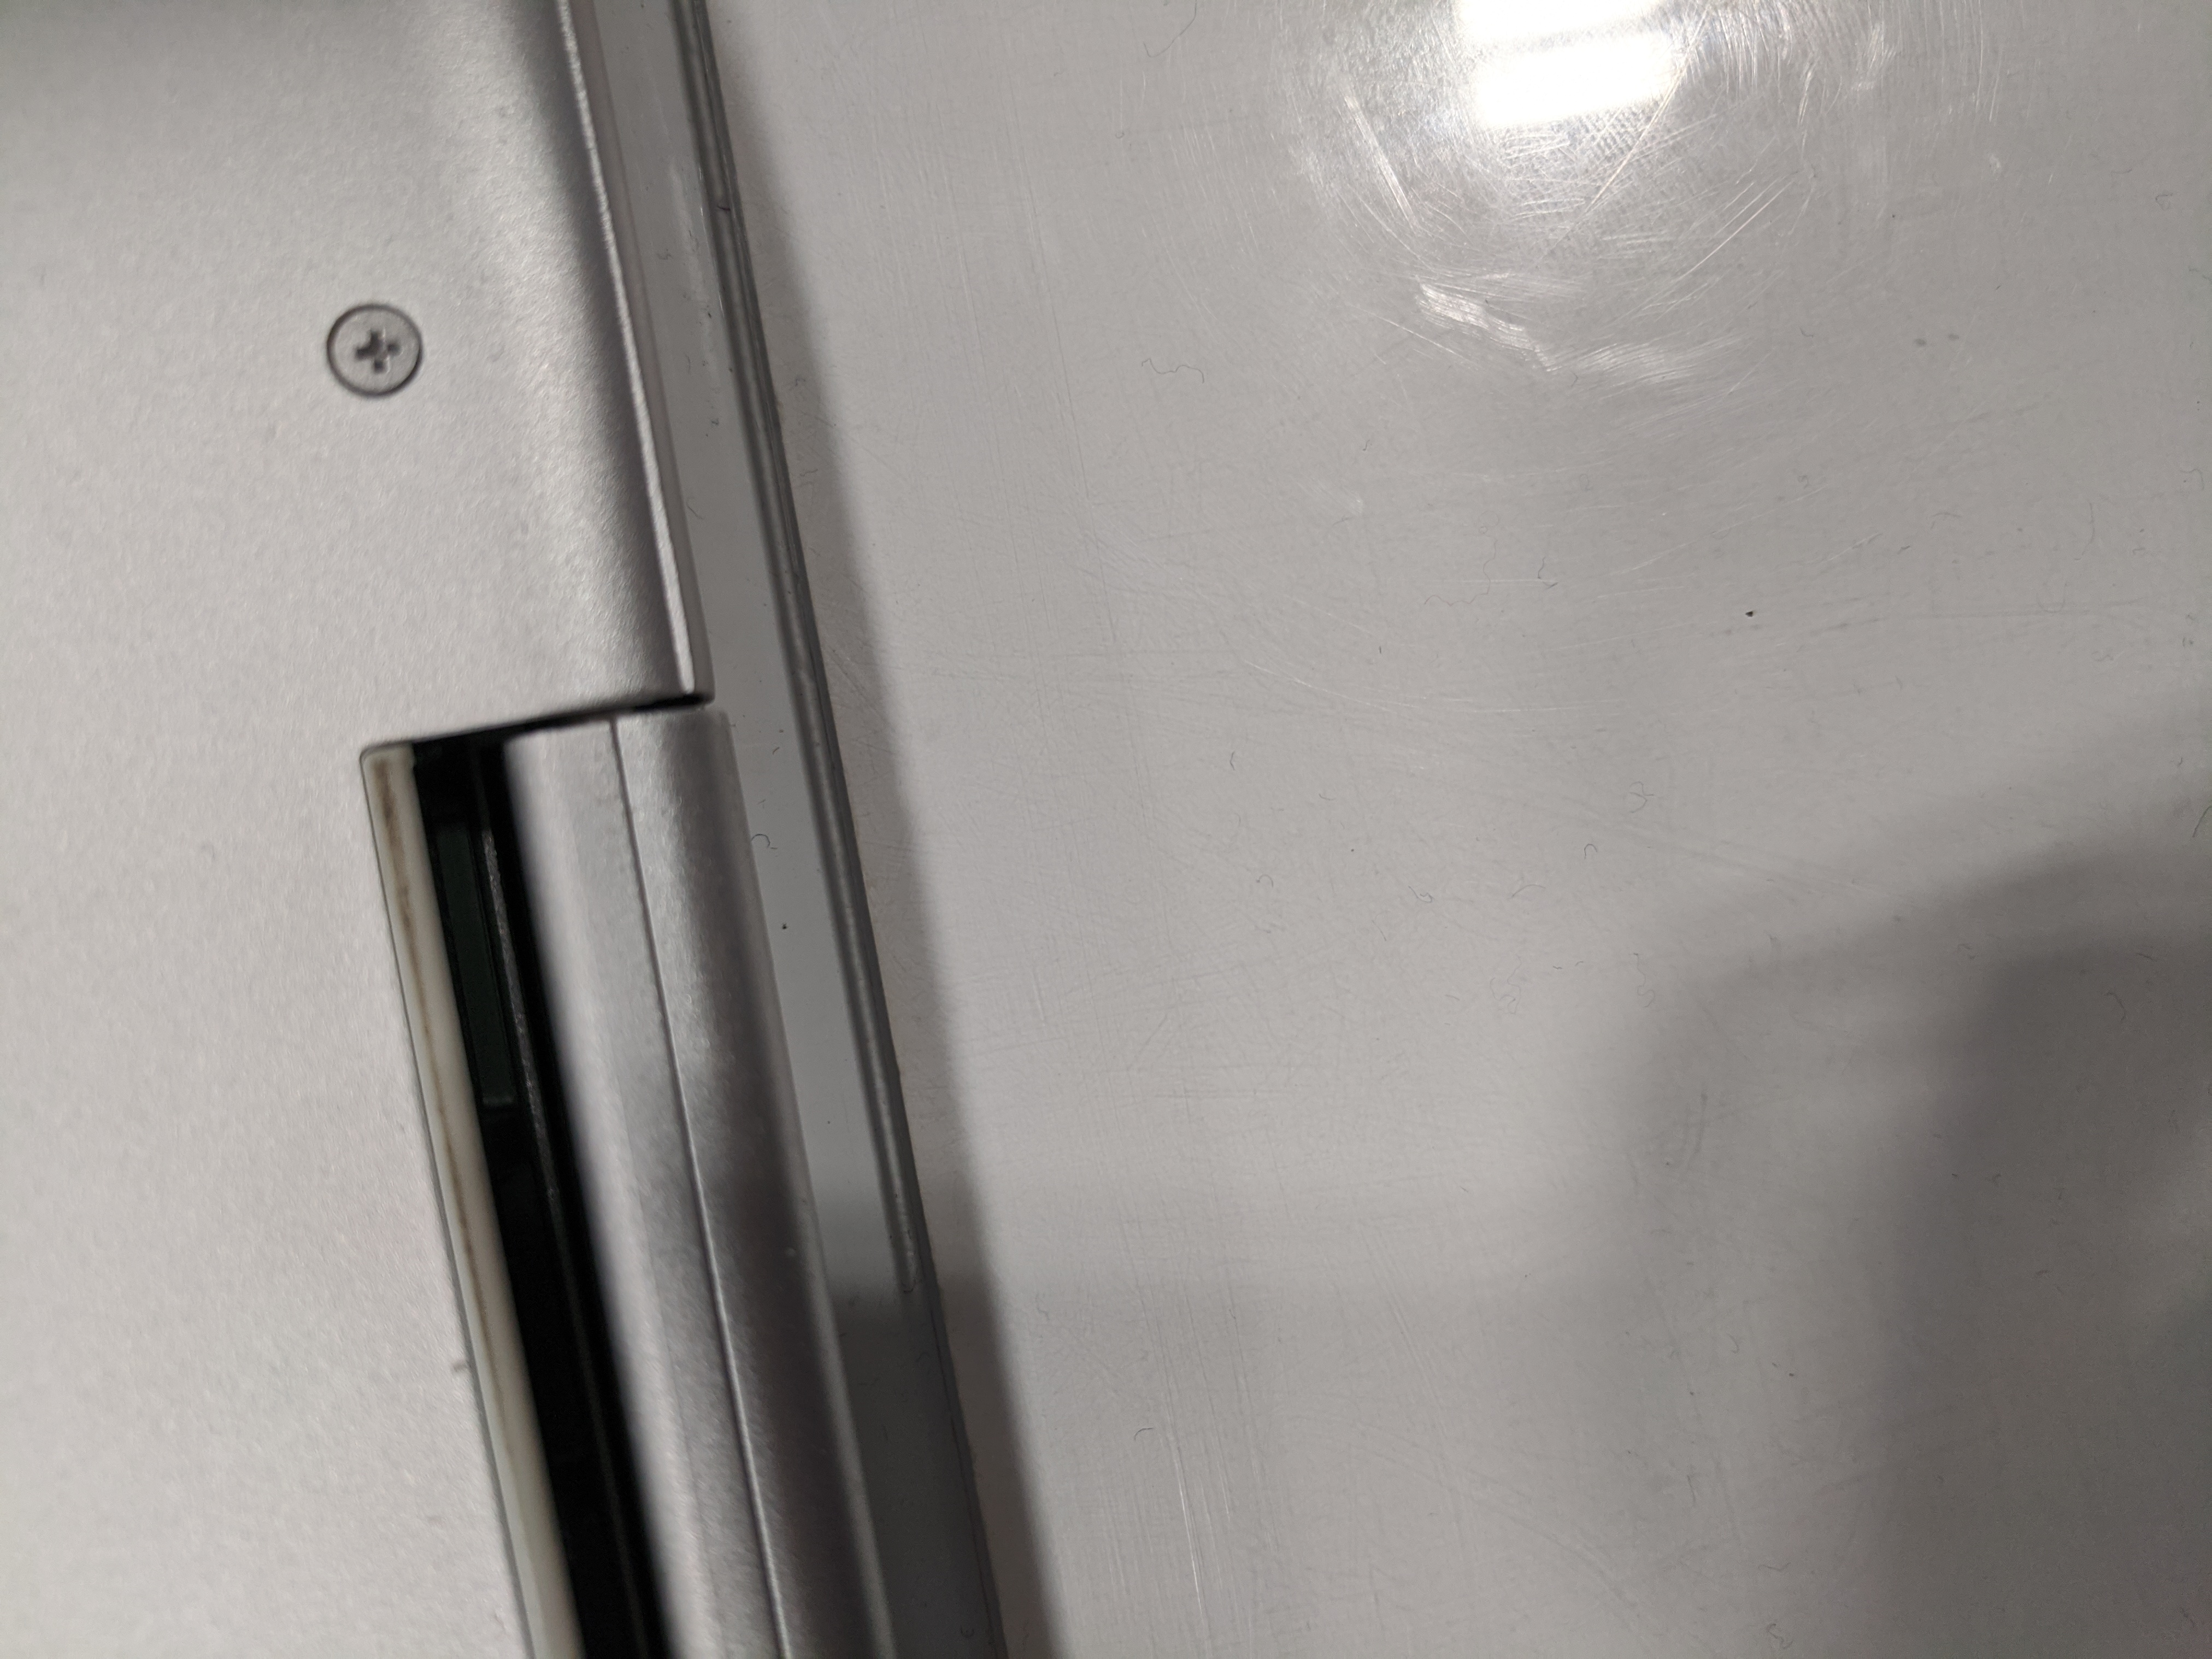cross_recessed_screw: (317, 291, 430, 397)
